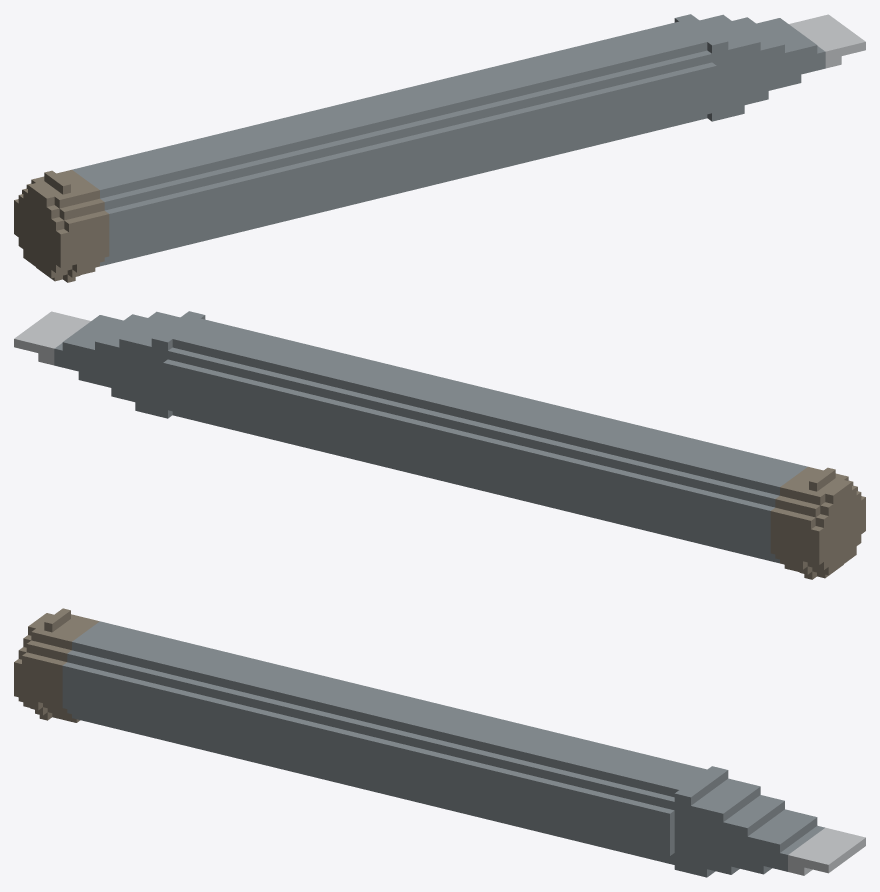
File: chisel.glb
3 views of the same model, one above another, from view 1: azimuth 30°, elevation 25°; view 2: azimuth 150°, elevation 25°; view 3: azimuth 330°, elevation 25° (orthographic).
Visible parts, largest first — view 1: chisel:compound; view 2: chisel:compound; view 3: chisel:compound.
Boxes of the visible parts, x1,y1,x2,y2 form: chisel:compound: (14,14,865,282); chisel:compound: (14,311,865,579); chisel:compound: (14,608,865,877).
Size of the model in its own units: 0.2 by 0.022 by 0.02.
